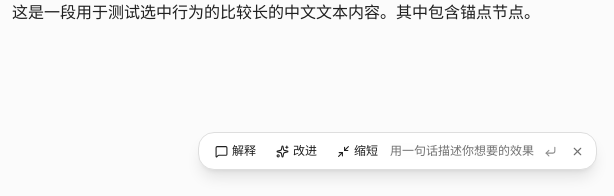
Test case: 选中文字 AI 操作条（B1） › 点击「解释」→ 不调接口，prefill 通道收到「请解释：{原文}」（append: true）
Step 1. Click the button "解释" → (236, 151), box [207,139,264,163]
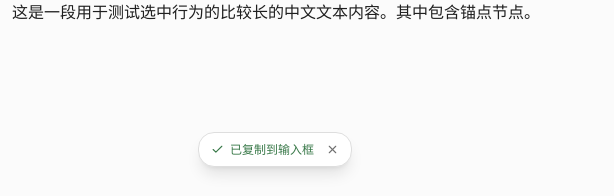
expect the text "已复制到输入框" is shown: met, box [207,142,318,158]
